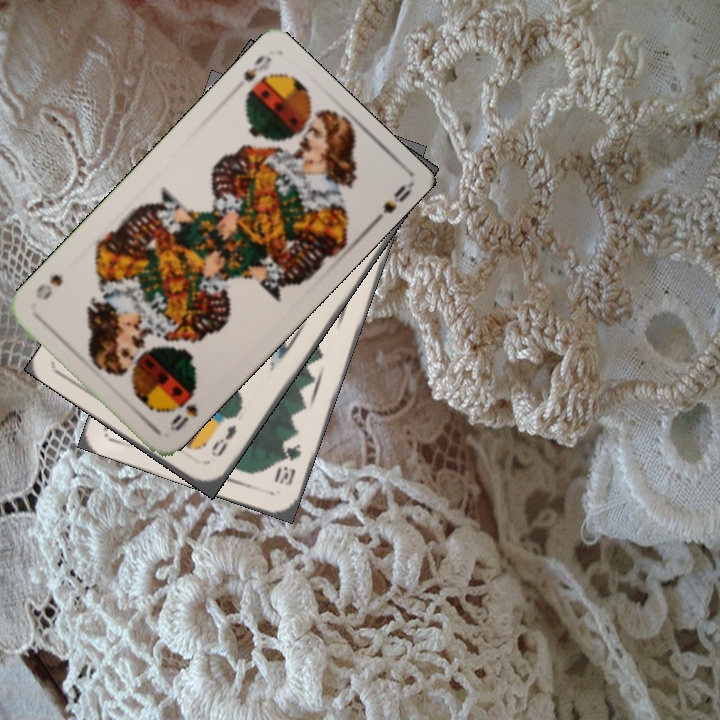EO: (207, 420, 239, 460)
G10: (270, 439, 304, 489)
SO: (166, 400, 201, 434), (240, 50, 274, 84)
